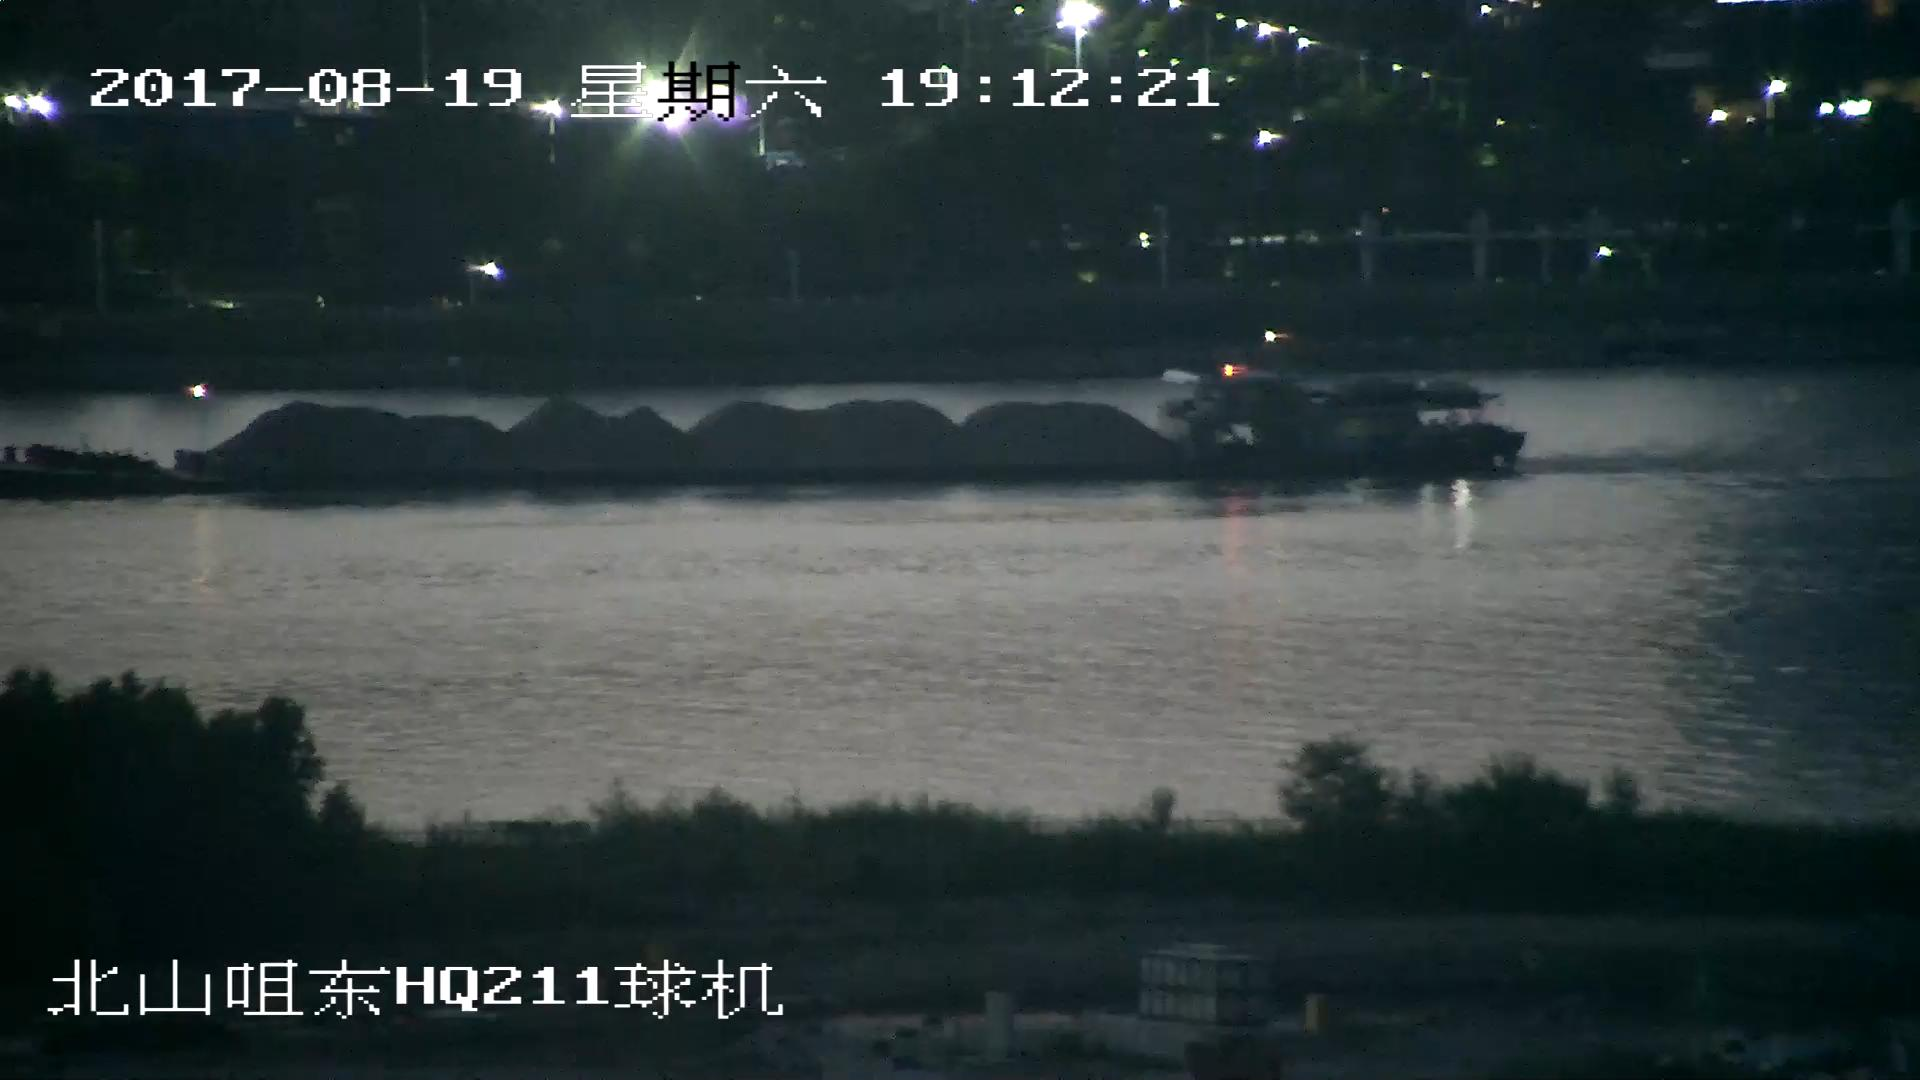ore carrier: (1, 355, 1524, 502)
